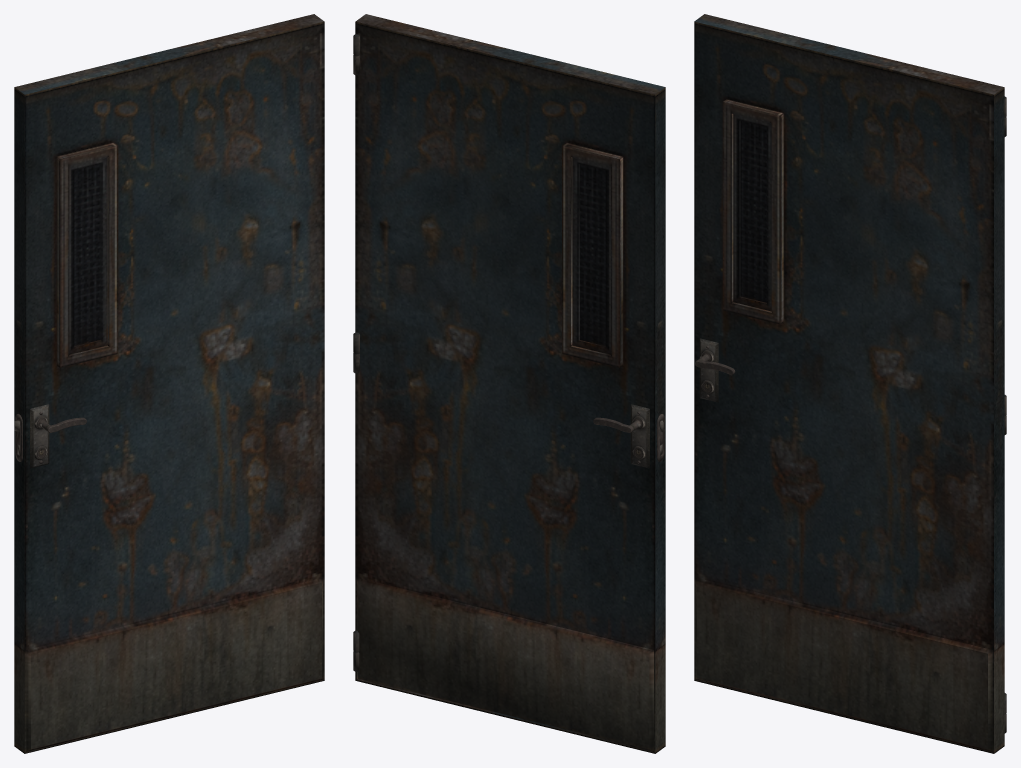
The model's file is door_3.obj.
3 renders of one model, left to right at view 1: azimuth 30°, elevation 25°; view 2: azimuth 150°, elevation 25°; view 3: azimuth 330°, elevation 25°, orthographic.
Parts seen in each view (by area): view 1: door_3; view 2: door_3; view 3: door_3.
Part boxes in pixels (bbox=[...]): door_3: bbox=[14, 14, 324, 753]; door_3: bbox=[353, 14, 665, 753]; door_3: bbox=[694, 14, 1006, 753].
Size of the model in its own units: 1.01 by 2.1 by 0.194.
